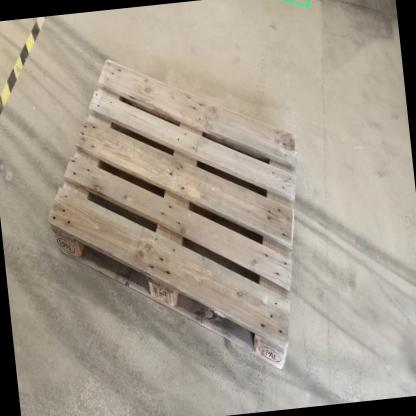BoxFace: (45, 54, 299, 378)
